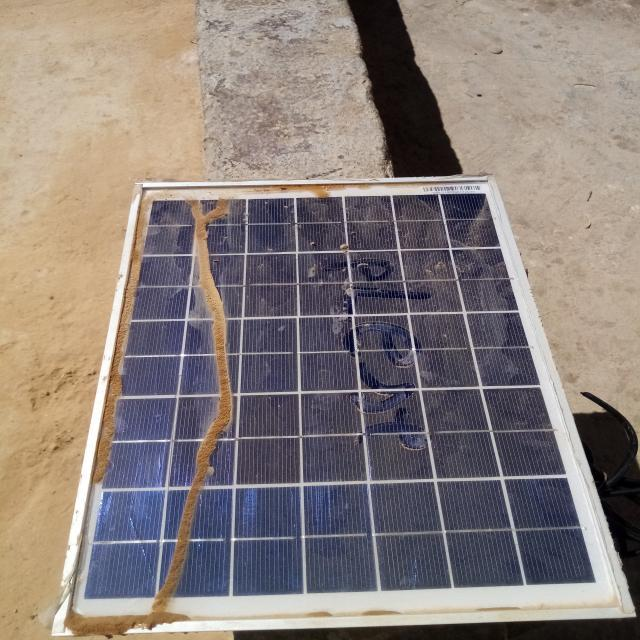faulty: (57, 177, 629, 629)
